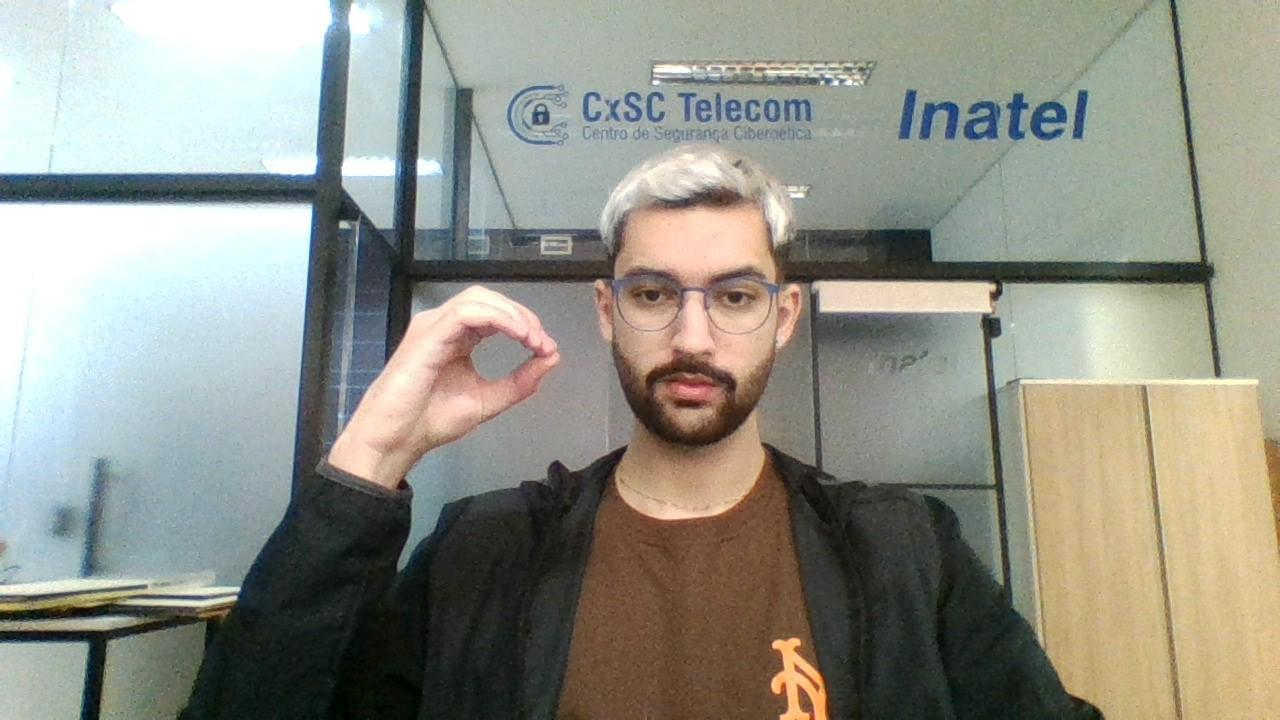O: (370, 284, 564, 450)
